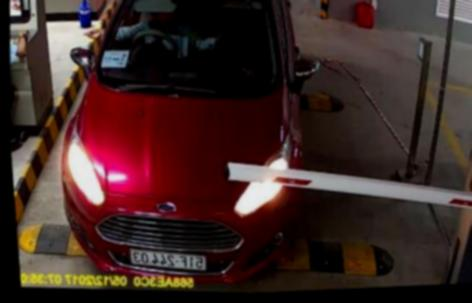License_Plate: (122, 245, 213, 274)
